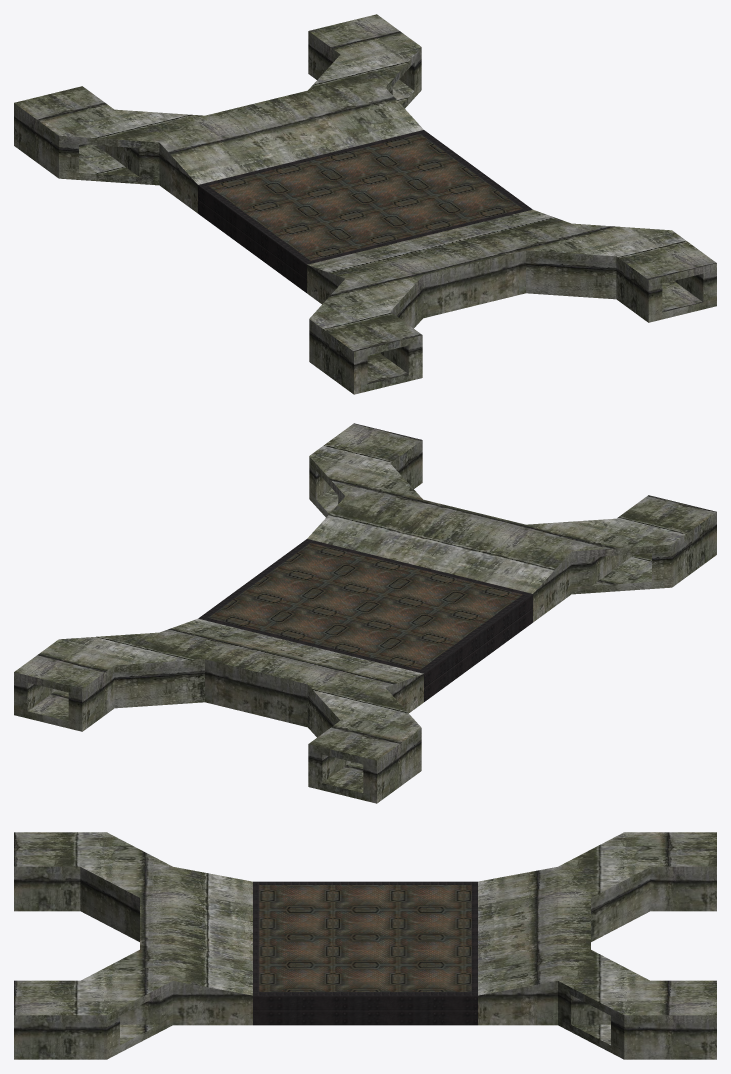
The model's file is bridge8.fbx.
3 renders of one model, top to bottom at view 1: azimuth 30°, elevation 25°; view 2: azimuth 150°, elevation 25°; view 3: azimuth 270°, elevation 25°, orthographic. The views are drawn at different scales.
Visible parts, largest first — view 1: Object; view 2: Object; view 3: Object.
Boxes of the visible parts, x1,y1,x2,y2 form: Object: (14,14,716,394); Object: (14,423,716,803); Object: (14,832,716,1059).
Bounding box in the file's own units: 5300 × 600 × 8600.
